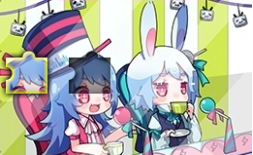gap: (69, 52, 110, 93)
